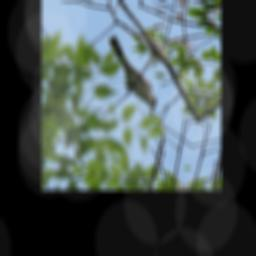Cuckoo: (96, 34, 171, 115)
